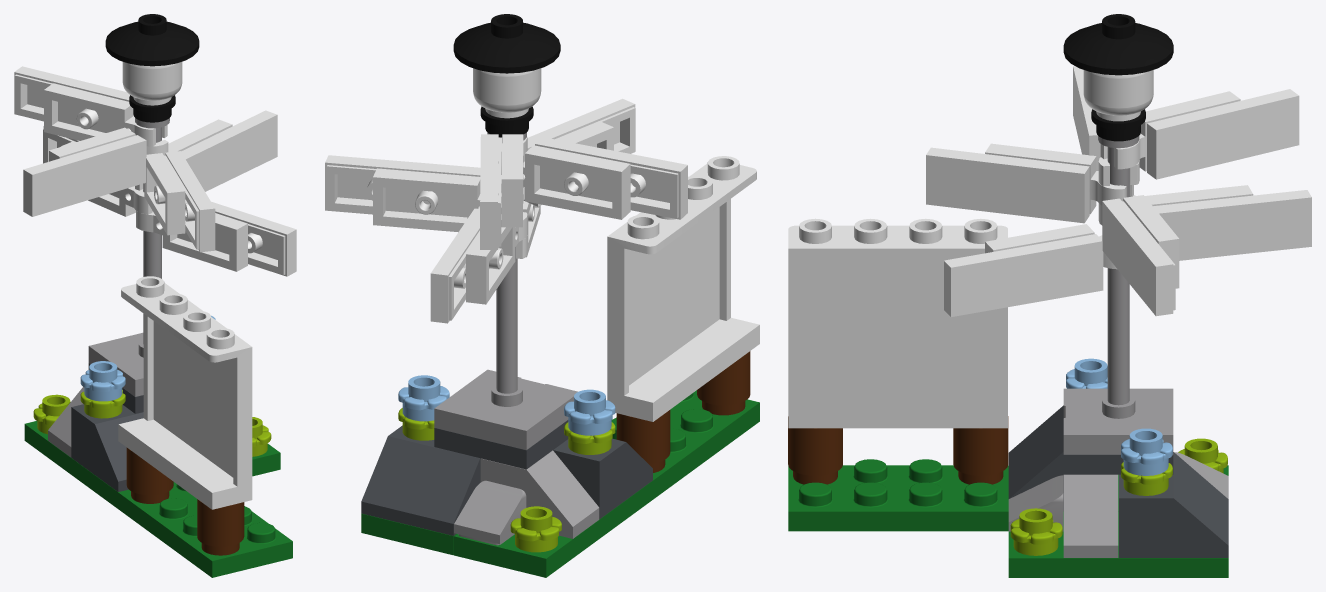
File: LEGOLAND® Park_notice.fbx
3 renders of one model, left to right at view 1: azimuth 30°, elevation 25°; view 2: azimuth 150°, elevation 25°; view 3: azimuth 270°, elevation 25°, orthographic. The views are drawn at different scales.
Parts seen in each view (by area): view 1: part.932, part.920, part.933, part.935, part.939, part.929, part.922, part.945, part.944, part.934, part.941, part.938 (+16 smaller); view 2: part.932, part.945, part.920, part.921, part.940, part.942, part.929, part.924, part.933, part.922, part.935, part.931 (+18 smaller); view 3: part.932, part.920, part.945, part.938, part.934, part.937, part.921, part.936, part.935, part.929, part.918, part.923 (+19 smaller).
Boxes of the visible parts, x1,y1,x2,y2 form: part.932: (118,276,252,509); part.920: (24,421,292,577); part.933: (23,135,146,216); part.935: (181,110,277,191); part.939: (44,83,167,146); part.929: (105,14,199,66); part.922: (71,404,143,491); part.945: (88,118,169,396); part.944: (136,210,247,271); part.934: (211,202,296,276); part.941: (144,153,187,235); part.938: (164,151,215,252); part.932: (607,156,759,421); part.945: (434,132,577,449); part.920: (454,390,759,577); part.921: (361,425,480,535); part.940: (523,145,630,219); part.942: (373,168,480,232); part.929: (453,14,560,73); part.924: (480,450,599,538); part.933: (535,137,687,219); part.922: (553,438,652,519); part.935: (325,155,480,214); part.931: (454,480,526,545); part.932: (788,218,1007,428); part.920: (788,459,1228,531); part.945: (1063,136,1173,454); part.938: (926,147,1089,223); part.934: (944,234,1103,316); part.937: (1147,89,1299,179); part.921: (1119,452,1228,557); part.936: (1153,190,1311,260); part.935: (1102,198,1175,316); part.929: (1063,14,1173,75); part.918: (1008,512,1228,577); part.923: (1063,474,1118,557).
Bounding box in the file's own units: 5542 × 8178 × 7607.
